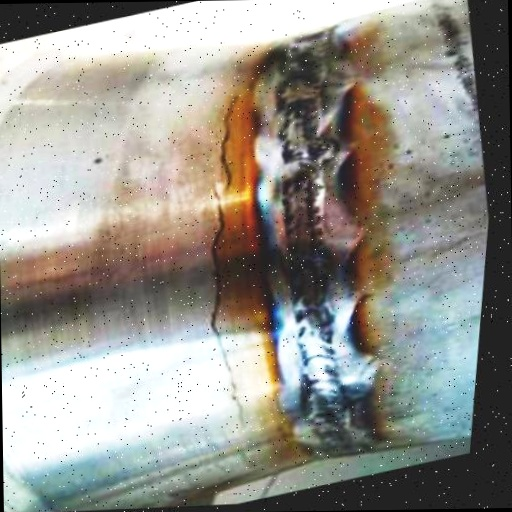crack: (129, 86, 303, 435)
